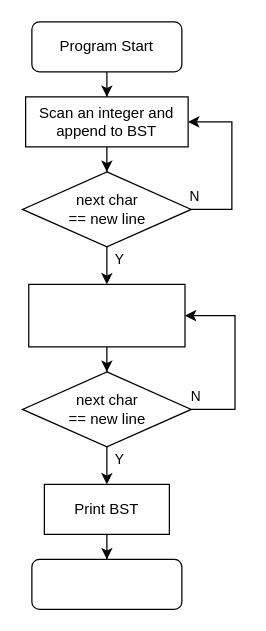
Image size: 266x631. Some labels were removed from this diagram. The shapes that lost their labels are listed below. From the top down, each one's box as (x1, y1, x2, y2) in pixels, then its label:
(28, 283, 185, 347): Scan an integer and delete to the node in BST
(31, 558, 182, 609): Program Terminate
